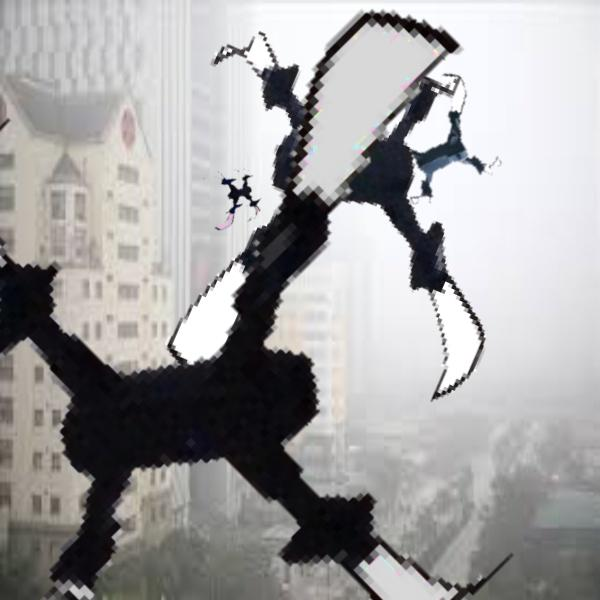drone: (142, 32, 547, 437), (364, 77, 498, 211), (199, 163, 267, 231)
